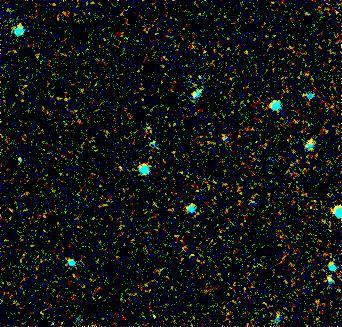star: (180, 80, 210, 110)
